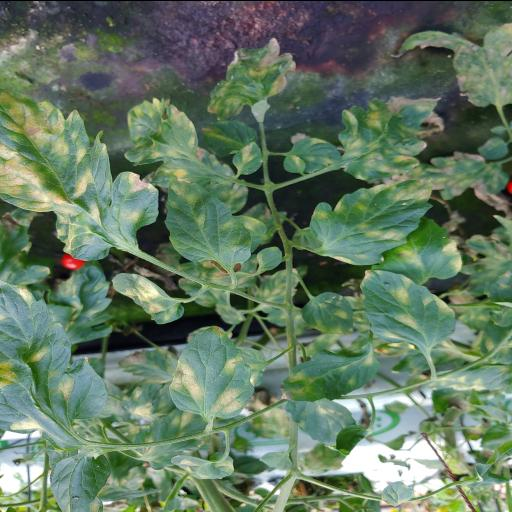Leaf Mold: (0, 97, 160, 261), (290, 175, 434, 265), (338, 96, 442, 184), (168, 324, 256, 418), (164, 172, 252, 266), (359, 269, 456, 347), (206, 38, 297, 120), (124, 94, 199, 192), (371, 216, 464, 284), (280, 350, 380, 402), (112, 272, 186, 322)
